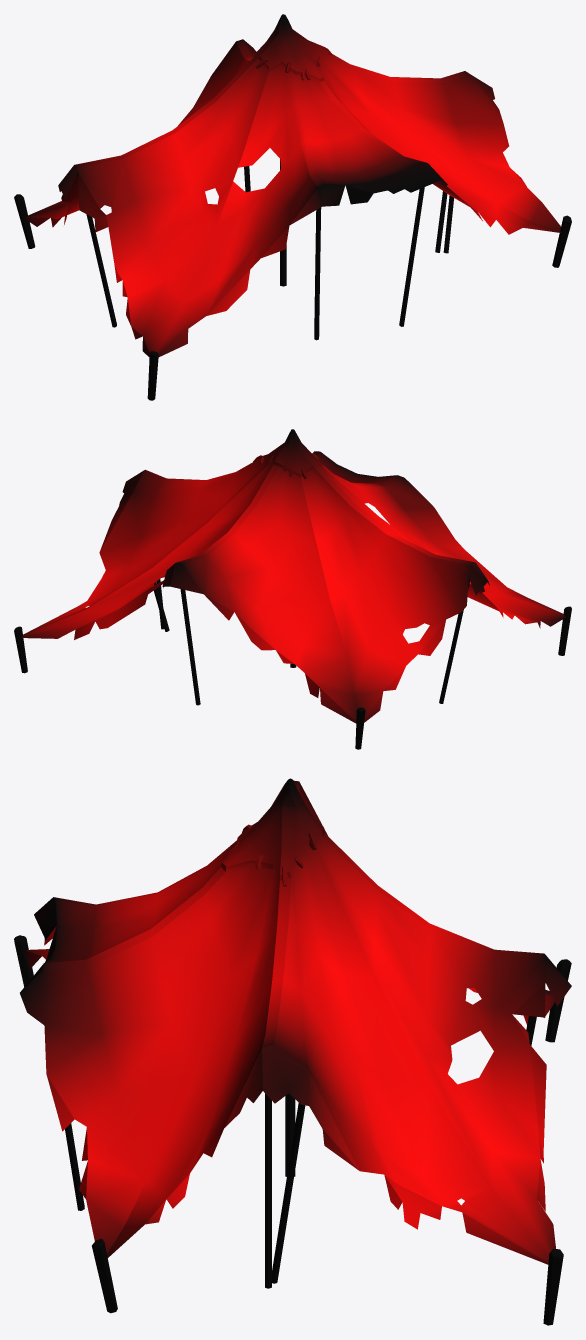
The model's file is SM_Prop_Tent_01.fbx.
3 views of the same model, one above another, from view 1: azimuth 30°, elevation 25°; view 2: azimuth 150°, elevation 25°; view 3: azimuth 270°, elevation 25° (orthographic). The views are drawn at different scales.
Parts seen in each view (by area): view 1: SM_Prop_Tent_01; view 2: SM_Prop_Tent_01; view 3: SM_Prop_Tent_01.
Part boxes in pixels (left/top/right/bottom): SM_Prop_Tent_01: left=14, top=14, right=571, bottom=400; SM_Prop_Tent_01: left=14, top=429, right=571, bottom=749; SM_Prop_Tent_01: left=14, top=778, right=571, bottom=1325.
Bounding box in the file's own units: 1070 × 613 × 781.
